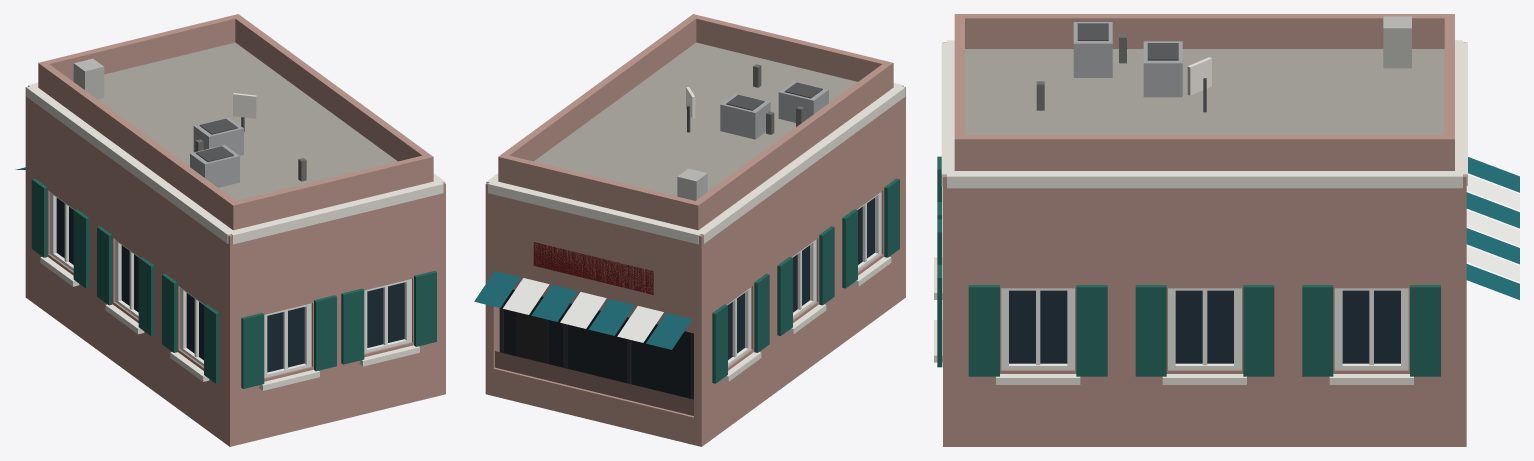
3 renders of one model, left to right at view 1: azimuth 30°, elevation 25°; view 2: azimuth 150°, elevation 25°; view 3: azimuth 270°, elevation 25°, orthographic. The views are drawn at different scales.
Parts seen in each view (by area): view 1: b9779_opaque, b9779_glass; view 2: b9779_opaque, b9779_glass; view 3: b9779_opaque, b9779_glass.
Part boxes in pixels (x1,y1,x2,y2): b9779_opaque: [15, 14, 445, 446]; b9779_glass: [56, 198, 404, 372]; b9779_opaque: [474, 14, 905, 446]; b9779_glass: [503, 198, 874, 398]; b9779_opaque: [934, 14, 1519, 446]; b9779_glass: [1009, 290, 1400, 363].
Size of the model in its own units: 2606 by 2736 by 4519.
